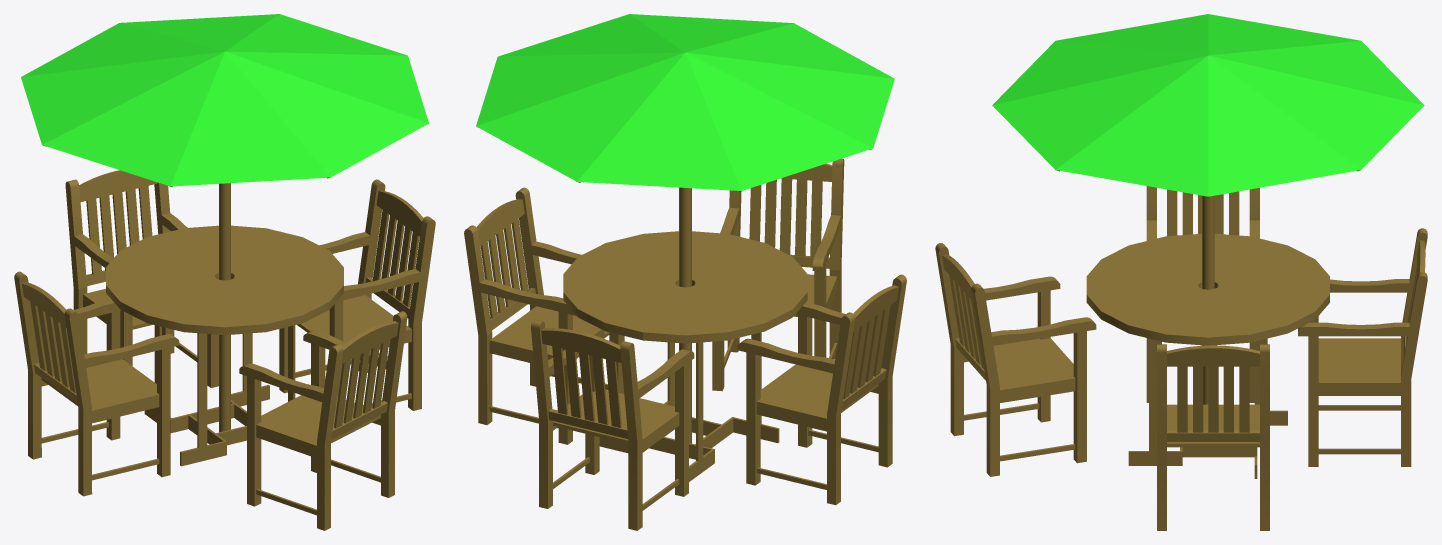
Rendered from LightGreenUmbrella.fbx.
3 renders of one model, left to right at view 1: azimuth 30°, elevation 25°; view 2: azimuth 150°, elevation 25°; view 3: azimuth 270°, elevation 25°, orthographic. The views are drawn at different scales.
Visible parts, largest first — view 1: Model, Chair4, Side6, Side7, Chair3, Chair1, Chair2, Side1, Side5, Side8, Side4, Side2 (+5 smaller); view 2: Model, Chair2, Side5, Chair3, Side4, Chair1, Side2, Chair4, Side6, Side3, Side7, Side1 (+5 smaller); view 3: Model, Chair1, Side8, Side3, Chair4, Chair2, Side7, Side4, Chair3, Side1, Side2, Leg2 (+3 smaller).
Part boxes in pixels (x1,y1,x2,y2): Model: [21, 14, 428, 432]; Chair4: [256, 321, 398, 449]; Side6: [64, 308, 179, 496]; Side7: [239, 344, 343, 530]; Chair3: [22, 282, 159, 414]; Chair1: [297, 190, 423, 342]; Chair2: [79, 170, 157, 329]; Side1: [329, 216, 435, 410]; Side5: [14, 271, 120, 459]; Side8: [303, 311, 407, 497]; Side4: [65, 179, 132, 365]; Side2: [279, 179, 385, 393]; Model: [476, 14, 894, 443]; Chair2: [541, 328, 679, 443]; Side5: [737, 312, 855, 505]; Chair3: [756, 285, 898, 422]; Side4: [620, 341, 694, 530]; Chair1: [476, 199, 609, 358]; Side2: [464, 225, 576, 444]; Chair4: [749, 163, 837, 316]; Side6: [796, 274, 906, 467]; Side3: [531, 319, 604, 508]; Side7: [812, 158, 844, 359]; Side1: [515, 187, 624, 393]; Model: [992, 14, 1424, 404]; Chair1: [1167, 345, 1259, 447]; Side8: [971, 283, 1096, 476]; Side3: [1298, 272, 1427, 466]; Chair4: [942, 254, 1075, 393]; Chair2: [1318, 240, 1425, 386]; Side7: [935, 243, 1060, 436]; Side4: [1310, 228, 1427, 410]; Chair3: [1167, 189, 1239, 236]; Side1: [1157, 344, 1166, 530]; Side2: [1260, 344, 1269, 530]; Leg2: [1128, 338, 1182, 465].
Size of the model in its own units: 2.16 by 2.12 by 2.43.
